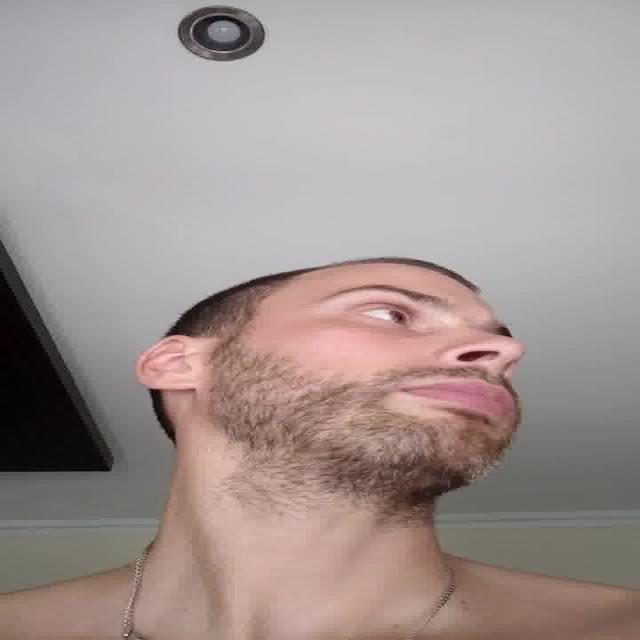earlobe: (138, 335, 205, 390)
